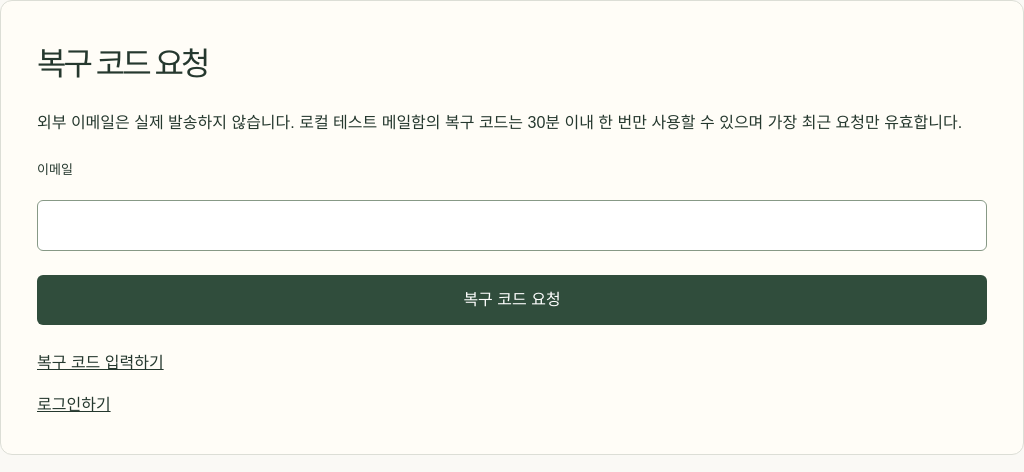
복구 요청은 이메일만 보내고 같은 접수 안내를 보여 준다
Type "absent@example.com" into the field labelled "이메일" at (512, 226), box [37, 200, 987, 251]
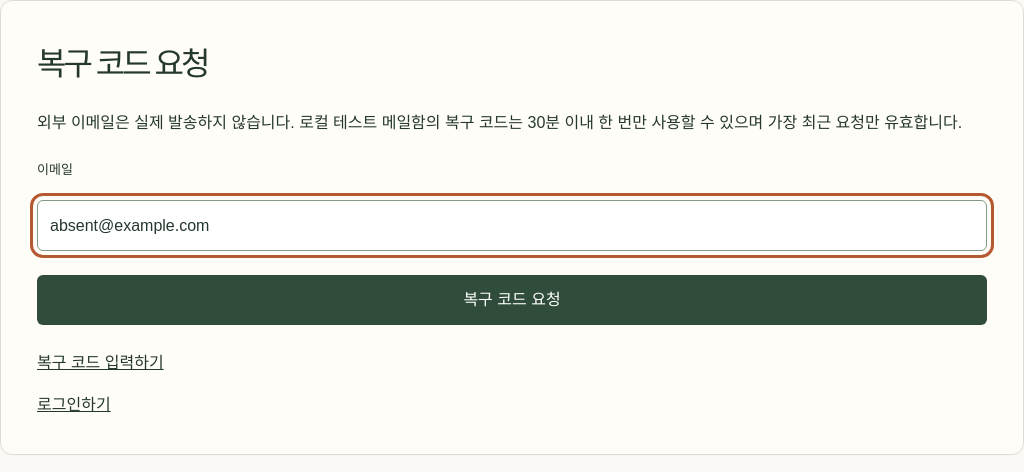
Click the button "복구 코드 요청" at (512, 300), box [37, 275, 987, 325]
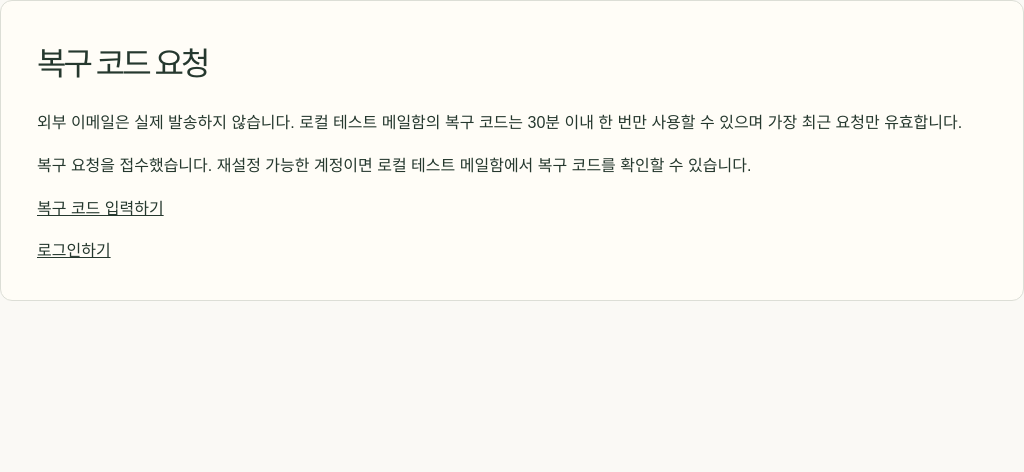
Check: the text "복구 요청을 접수했습니다. 재설정 가능한 계정이면 로컬 테스트 메일함에서 복구 코드를 확인할 수 있습니다." is shown, box [37, 157, 751, 174]
